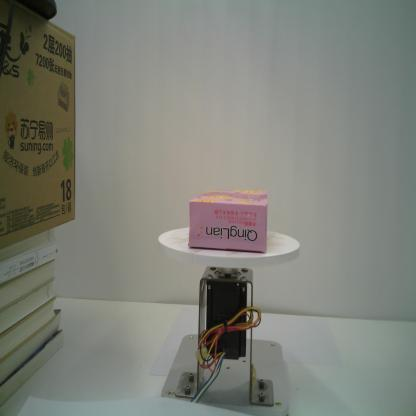Dessert: (186, 184, 271, 254)
